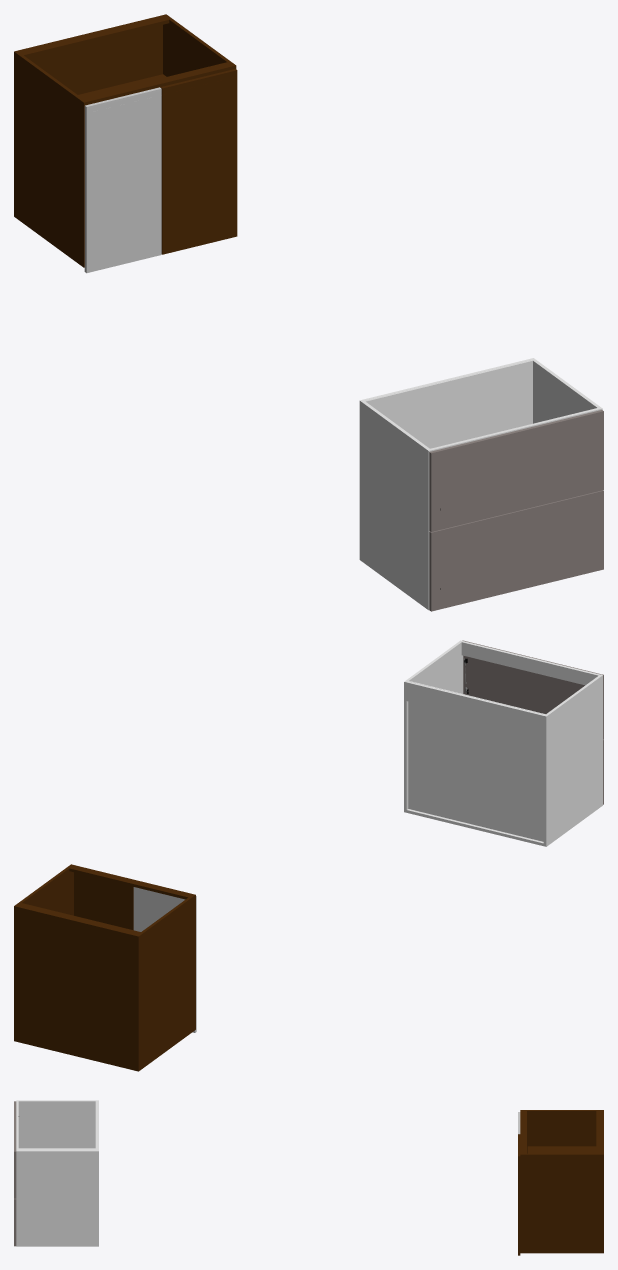
The model's file is proyecto.glb.
3 views of the same model, one above another, from view 1: azimuth 30°, elevation 25°; view 2: azimuth 150°, elevation 25°; view 3: azimuth 270°, elevation 25° (orthographic). The views are drawn at different scales.
Visible parts, largest first — view 1: P024, P023, P022, P019, P021, P029, P031, P016, P030, P020, P017, P014; view 2: P016, P031, P021, P029, P024, P025, P019, P030, P027, P020, P022, P014 (+2 smaller); view 3: P020, P030, P029, P021, P015, P019, P017, P014, P024, P026, P028.
Boxes of the visible parts, <box> form: P024: <box>429,410,603,531</box>; P023: <box>429,490,603,611</box>; P022: <box>84,87,161,273</box>; P019: <box>160,69,237,254</box>; P021: <box>14,51,87,267</box>; P029: <box>359,399,431,606</box>; P031: <box>363,360,534,448</box>; P016: <box>27,21,162,94</box>; P030: <box>531,358,602,423</box>; P020: <box>163,14,236,76</box>; P017: <box>17,15,169,57</box>; P014: <box>82,62,232,104</box>; P016: <box>14,906,138,1070</box>; P031: <box>408,681,546,841</box>; P021: <box>136,894,195,1071</box>; P029: <box>543,674,602,843</box>; P024: <box>462,640,603,739</box>; P025: <box>406,681,544,734</box>; P019: <box>74,872,133,930</box>; P030: <box>404,640,463,809</box>; P027: <box>461,641,599,685</box>; P020: <box>14,864,73,1041</box>; P022: <box>133,887,196,1032</box>; P014: <box>69,865,192,899</box>; P020: <box>520,1153,603,1253</box>; P030: <box>16,1150,98,1244</box>; P029: <box>16,1100,98,1148</box>; P021: <box>520,1110,603,1153</box>; P015: <box>527,1146,596,1153</box>; P019: <box>518,1134,520,1255</box>; P017: <box>596,1111,603,1153</box>; P014: <box>520,1111,526,1153</box>; P024: <box>14,1101,16,1198</box>; P026: <box>16,1244,98,1246</box>; P028: <box>18,1148,95,1150</box>.
Bounding box in the file's own units: 1.05 × 0.7934 × 3.93.
